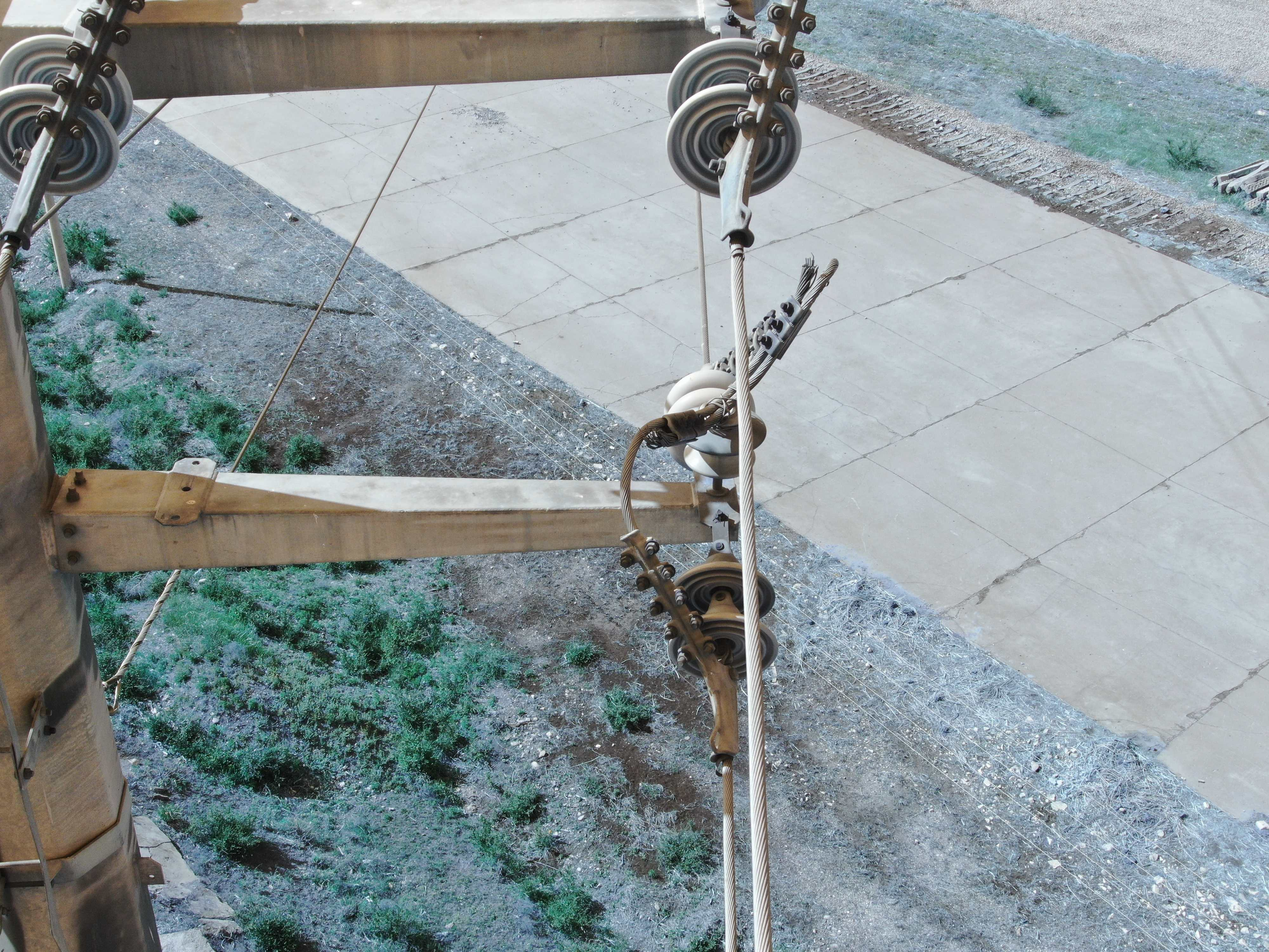severe_soiling_no_discharge_whole: (680, 400, 768, 479)
